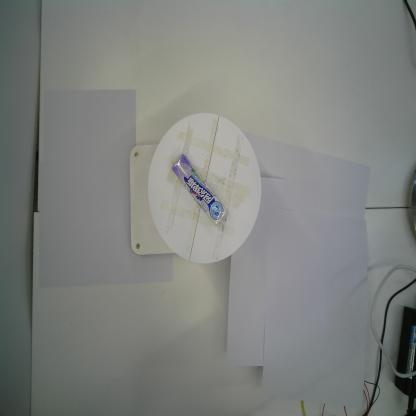Candy: (172, 153, 228, 227)
